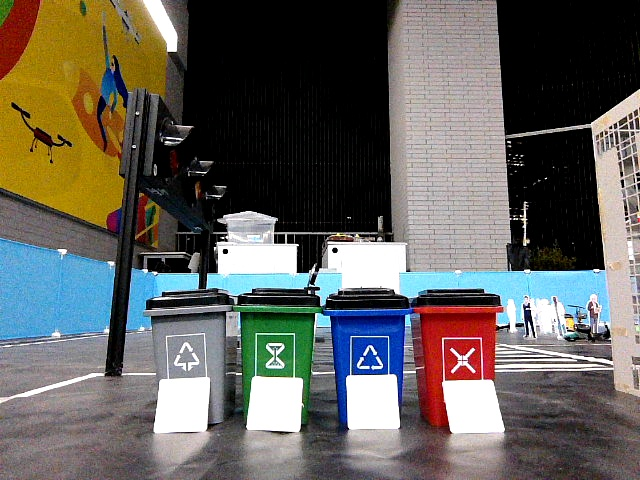blue_close: (327, 288, 405, 368)
green_close: (243, 287, 312, 375)
grey_close: (154, 291, 224, 371)
red_close: (416, 287, 495, 375)
